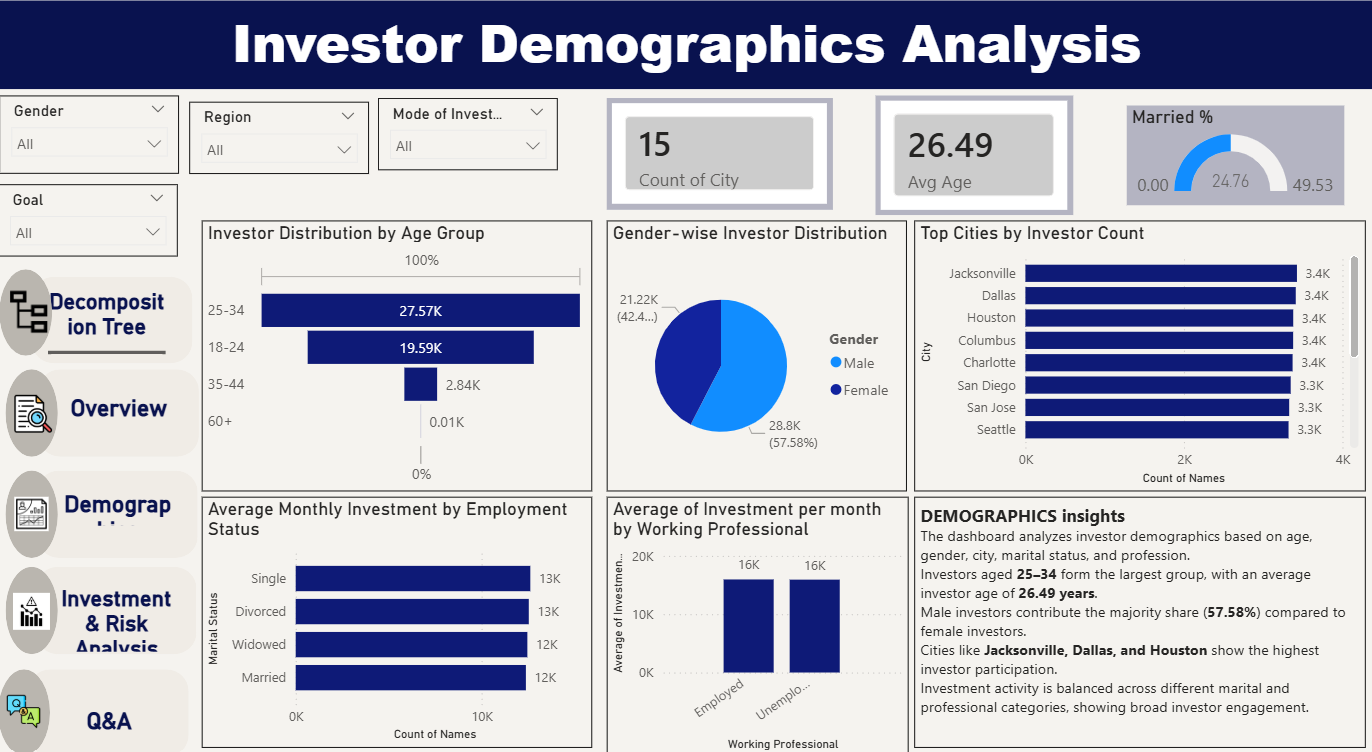

This screenshot's page, from the dashboard's own definition file:
{"tool":"powerbi","page":{"name":"DEMOGRAPHICS","canvas":[1280,720],"ordinal":3},"visuals":[{"type":"clusteredColumnChart","fields":{"Category":["investment_survey.Working Professional"],"Y":["Avg(investment_survey.Investment per month)"]},"box":[565.7,478.1,281,242.7],"z":0},{"type":"shape","box":[34.7,543.4,149.9,81.4],"z":0,"group":"g1"},{"type":"pieChart","title":"Gender-wise Investor Distribution","fields":{"Category":["investment_survey.Gender"],"Y":["CountNonNull(investment_survey.Names)"]},"box":[565.7,220.8,279.2,251.8],"z":1000},{"type":"shape","box":[35.7,453,149.9,81.4],"z":1000,"group":"g1"},{"type":"funnel","title":"Investor Distribution by Age Group","fields":{"Category":["investment_survey.Age Group"],"Y":["CountNonNull(investment_survey.Names)"]},"box":[189.8,220.8,363.2,251.8],"z":2000},{"type":"shape","box":[36.6,359.5,149.9,81.4],"z":2000,"group":"g1"},{"type":"shape","box":[31.7,272.8,149.5,80.5],"z":3000,"group":"g1"},{"type":"clusteredBarChart","title":"Average Monthly Investment by Employment Status","fields":{"Category":["investment_survey.Marital Status"],"Y":["CountNonNull(investment_survey.Names)"]},"box":[189.8,478.1,363.1,233.6],"z":3000},{"type":"slicer","fields":{"Values":["investment_survey.Region"]},"box":[177.5,110,167.5,67.5],"z":4000},{"type":"actionButton","title":"Decomposition Tree","box":[46.8,283.3,109.4,62],"z":4000,"group":"g1"},{"type":"slicer","fields":{"Values":["investment_survey.Gender"]},"box":[1.2,105,167.5,72.5],"z":5000},{"type":"shape","box":[0.8,266.2,49.3,80.5],"z":5000,"group":"g1"},{"type":"textbox","box":[0,16.4,1281.1,82.1],"z":6000},{"type":"image","box":[7,279.6,43,51.3],"z":6000,"group":"g1"},{"type":"cardVisual","fields":{"Data":["Count(investment_survey.City)"]},"box":[566.2,107.5,210,103.8],"z":7000},{"type":"actionButton","title":"Overview","box":[57.6,382.1,108.8,34.7],"z":7000,"group":"g1"},{"type":"cardVisual","fields":{"Data":["investment_survey.Avg Age"]},"box":[816.2,105,183.8,111.2],"z":8000},{"type":"actionButton","title":"Demographics","box":[56.7,472.6,108.8,33.2],"z":8000,"group":"g1"},{"type":"gauge","fields":{"Y":["investment_survey.Married %"]},"box":[1050,113.8,202.5,92.5],"z":9000},{"type":"actionButton","title":"Investment & Risk Analysis","box":[55.7,560,108.8,61.8],"z":9000,"group":"g1"},{"type":"shape","box":[7,359.5,48.7,81.4],"z":10000,"group":"g1"},{"type":"shape","box":[7,543.4,48.7,81.4],"z":11000,"group":"g1"},{"type":"clusteredBarChart","title":"Top Cities by Investor Count","fields":{"Category":["investment_survey.City"],"Y":["CountNonNull(investment_survey.Names)"]},"box":[852.2,220.8,419.7,251.8],"z":12000},{"type":"shape","box":[7,453,48.7,81.4],"z":12000,"group":"g1"},{"type":"slicer","fields":{"Values":["investment_survey.Mode of Investment"]},"box":[353.8,107.5,167.5,67.5],"z":13000},{"type":"image","box":[14.7,353.5,35.3,95],"z":13000,"group":"g1"},{"type":"slicer","fields":{"Values":["investment_survey.Goal"]},"box":[0,187.5,167.5,67.5],"z":14000},{"type":"image","box":[15.2,464.9,31.9,57.7],"z":14000,"group":"g1"},{"type":"textbox","box":[852.7,478.4,420.3,233.8],"z":15000},{"type":"image","box":[14.4,559.4,34.2,50.3],"z":15000,"group":"g1"},{"type":"group","id":"g1","title":"Group 1","box":[0,266.2,186.2,453.8],"z":15001},{"type":"shape","box":[28.4,638.2,149.5,81.8],"z":16000,"group":"g1"},{"type":"actionButton","title":"Q&A","box":[49.3,673.8,109.4,36.9],"z":17000,"group":"g1"},{"type":"shape","box":[0,638.2,48.4,80.5],"z":18000,"group":"g1"},{"type":"image","box":[8.4,650,30.9,55.4],"z":19000,"group":"g1"}]}

Visuals, with their boxes in screenshot pixels (x1, y1, x2, y2), scaled from the page's 1280x720 canvas onto the 1372x752 screenshot:
clusteredColumnChart - investment_survey.Working Professional x Avg(investment_survey.Investment per month): bbox=[606, 499, 908, 751]
shape: bbox=[37, 568, 198, 653]
"Gender-wise Investor Distribution" pieChart: bbox=[606, 231, 906, 494]
shape: bbox=[38, 473, 199, 558]
"Investor Distribution by Age Group" funnel: bbox=[203, 231, 593, 494]
shape: bbox=[39, 375, 200, 460]
shape: bbox=[34, 285, 194, 369]
"Average Monthly Investment by Employment Status" clusteredBarChart: bbox=[203, 499, 593, 743]
slicer - investment_survey.Region: bbox=[190, 115, 370, 185]
"Decomposition Tree" actionButton: bbox=[50, 296, 167, 361]
slicer - investment_survey.Gender: bbox=[1, 110, 181, 185]
shape: bbox=[1, 278, 54, 362]
textbox: bbox=[0, 17, 1371, 103]
image: bbox=[8, 292, 54, 346]
cardVisual - Count(investment_survey.City): bbox=[607, 112, 832, 221]
"Overview" actionButton: bbox=[62, 399, 178, 435]
cardVisual - investment_survey.Avg Age: bbox=[875, 110, 1072, 226]
"Demographics" actionButton: bbox=[61, 494, 177, 528]
gauge - investment_survey.Married %: bbox=[1125, 119, 1343, 215]
"Investment & Risk Analysis" actionButton: bbox=[60, 585, 176, 649]
shape: bbox=[8, 375, 60, 460]
shape: bbox=[8, 568, 60, 653]
"Top Cities by Investor Count" clusteredBarChart: bbox=[913, 231, 1363, 494]
shape: bbox=[8, 473, 60, 558]
slicer - investment_survey.Mode of Investment: bbox=[379, 112, 559, 183]
image: bbox=[16, 369, 54, 468]
slicer - investment_survey.Goal: bbox=[0, 196, 180, 266]
image: bbox=[16, 486, 50, 546]
textbox: bbox=[914, 500, 1364, 744]
image: bbox=[15, 584, 52, 637]
"Group 1" group: bbox=[0, 278, 200, 751]
shape: bbox=[30, 667, 191, 751]
"Q&A" actionButton: bbox=[53, 704, 170, 742]
shape: bbox=[0, 667, 52, 751]
image: bbox=[9, 679, 42, 737]
